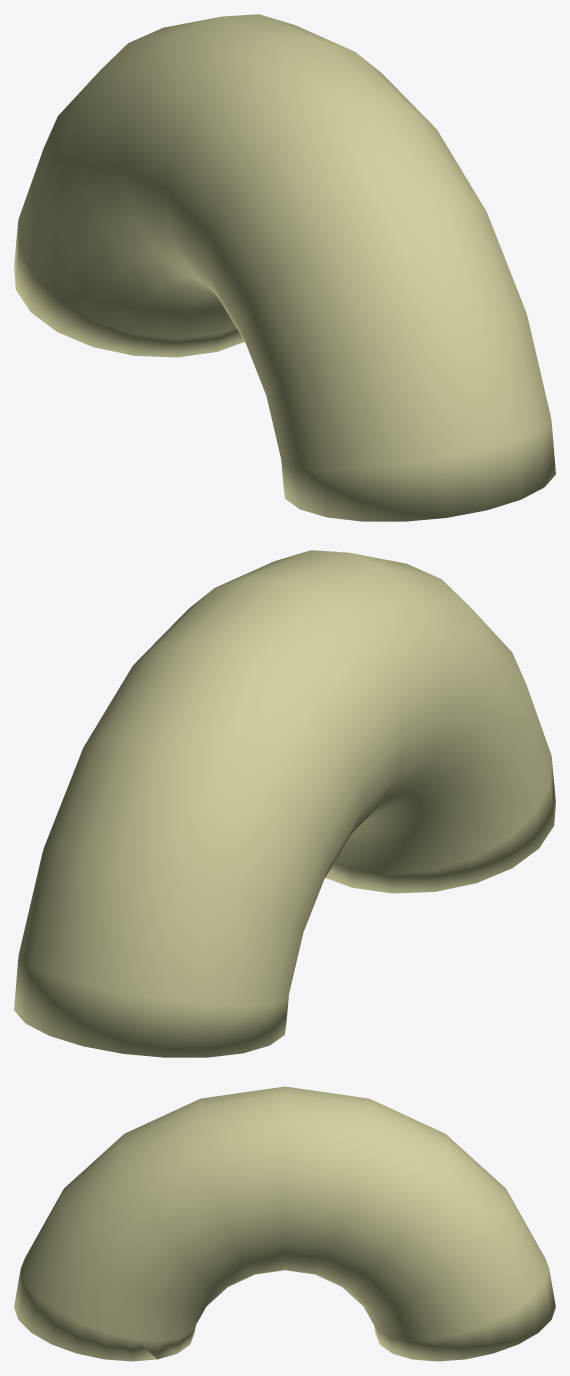
Rendered from Pasta.fbx.
3 views of the same model, one above another, from view 1: azimuth 30°, elevation 25°; view 2: azimuth 150°, elevation 25°; view 3: azimuth 270°, elevation 25° (orthographic). The views are drawn at different scales.
Parts seen in each view (by area): view 1: pTorus1; view 2: pTorus1; view 3: pTorus1.
Boxes of the visible parts, x1,y1,x2,y2 form: pTorus1: (14, 14, 555, 521); pTorus1: (14, 550, 555, 1057); pTorus1: (14, 1086, 555, 1361).
Bounding box in the file's own units: 2.31 × 3.29 × 6.77.
